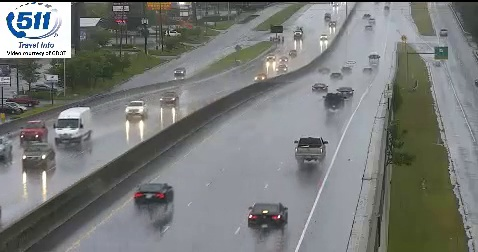car: (248, 203, 287, 228), (135, 183, 173, 205), (296, 137, 325, 160), (324, 93, 343, 109)
